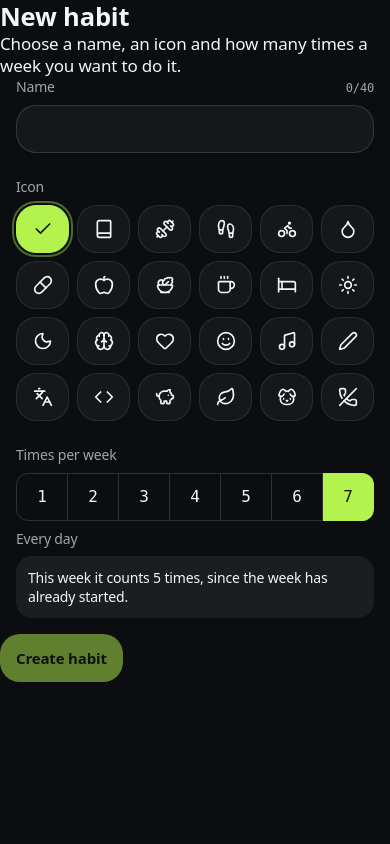
Test: HabitSheet: creating › creates with 19 active habits
The image size is (390, 844).
In the field labelled "Name": (195, 129) left=16, top=105, right=374, bottom=153, type "One more"
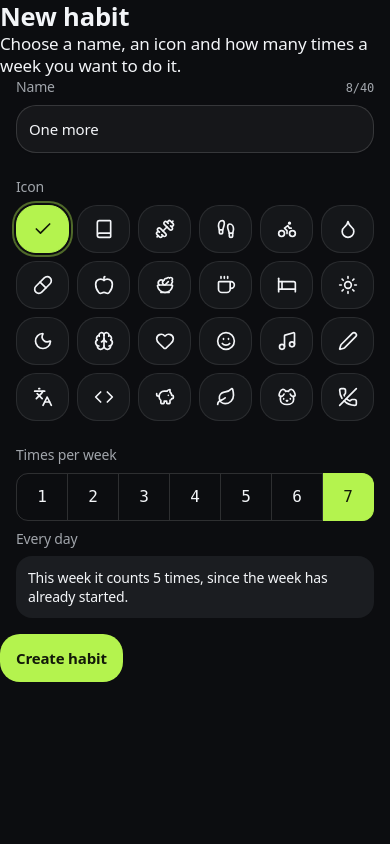
Check: the button "Create habit" is enabled, box left=0, top=634, right=123, bottom=682
